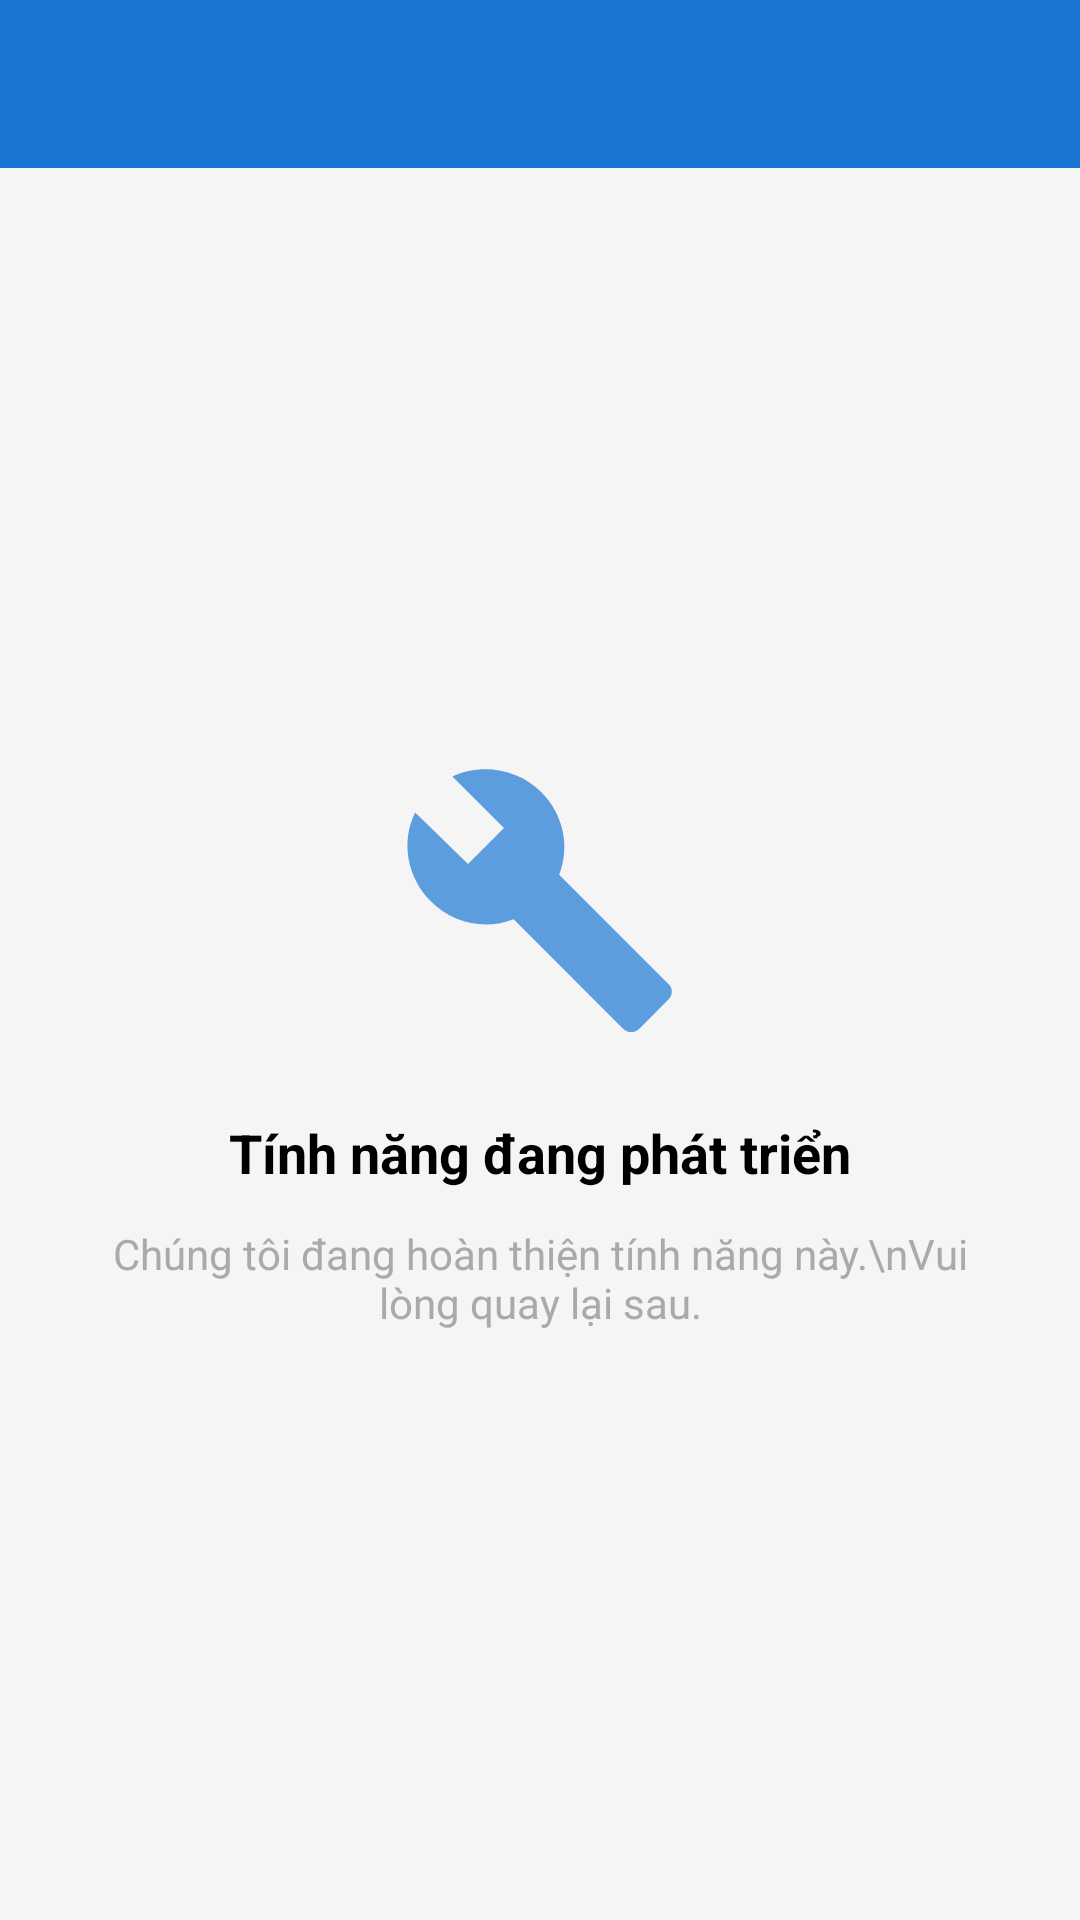

Point at icon controls on the screen. Image size 1080px x 1920px, points as (x,y).
build: (539,900)
